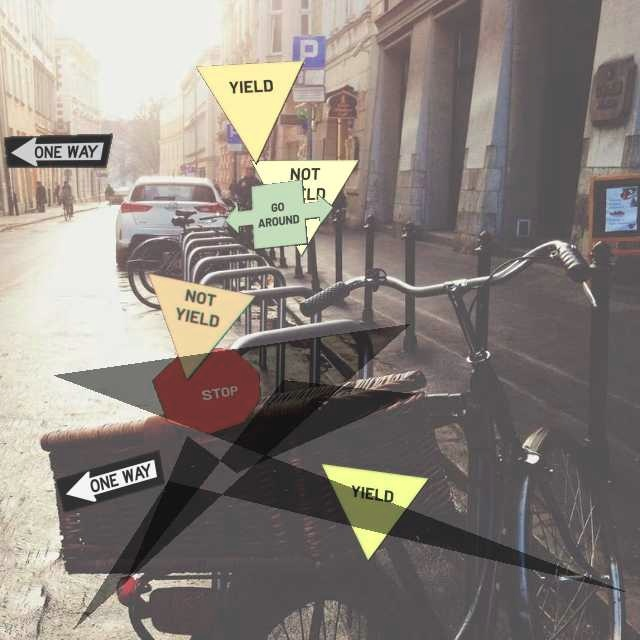GO_AROUND: (224, 179, 334, 250)
NOT_YIELD: (147, 272, 257, 381), (250, 159, 360, 257)
ONE_WAY_ left: (55, 449, 165, 513), (3, 133, 113, 168)
STOP: (151, 346, 261, 435)
YIELD: (195, 60, 305, 165), (320, 463, 430, 562)
